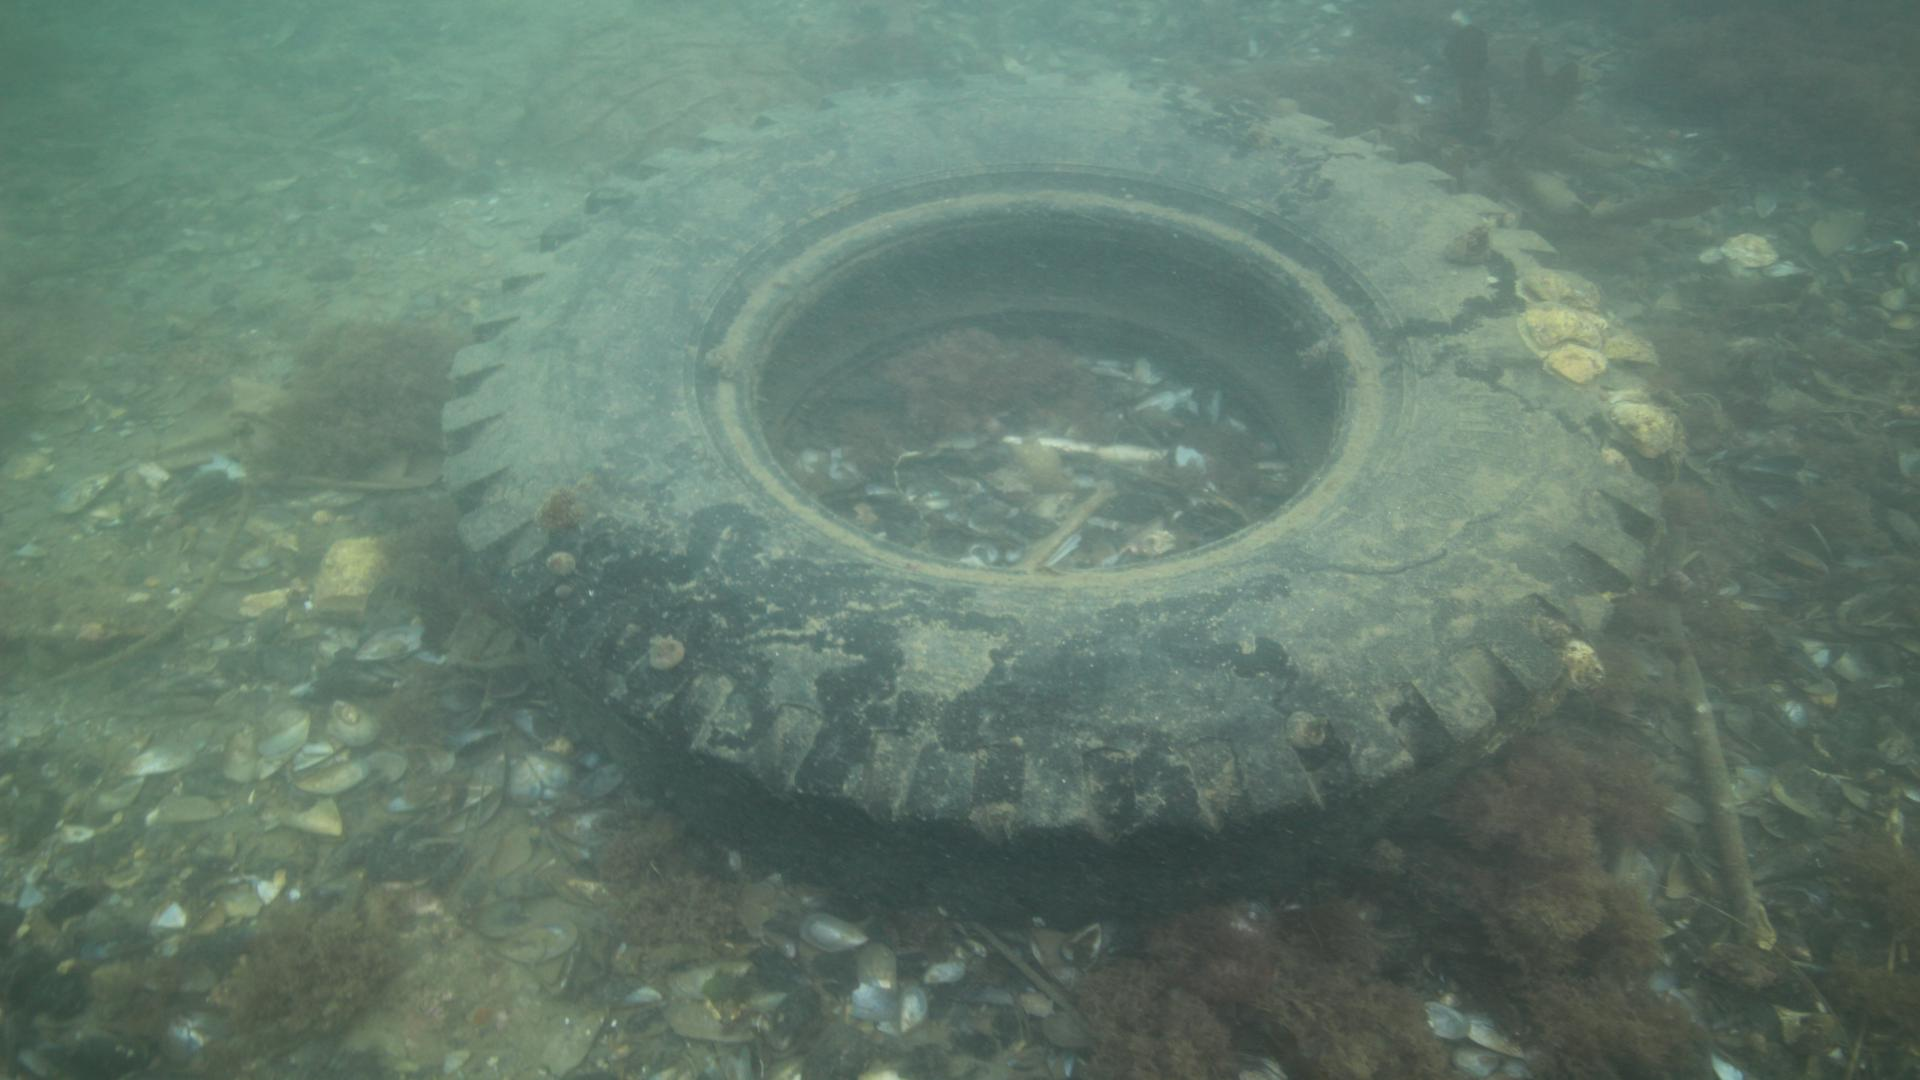tire: (436, 70, 1660, 926)
